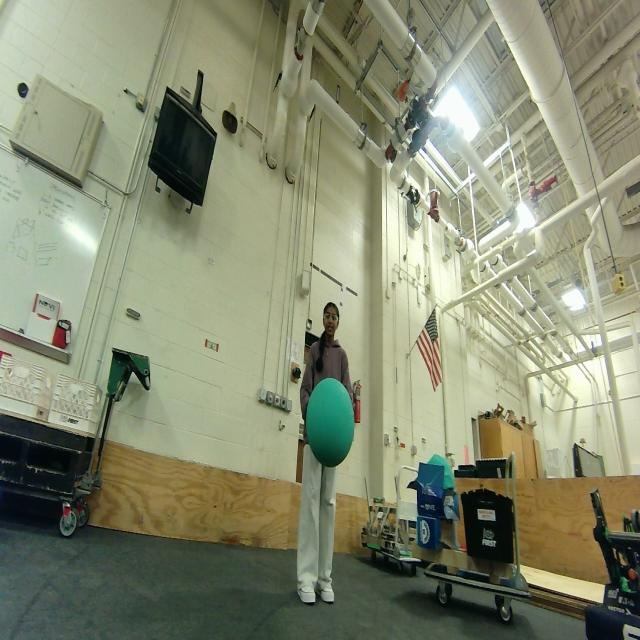algae: (306, 378, 360, 468)
